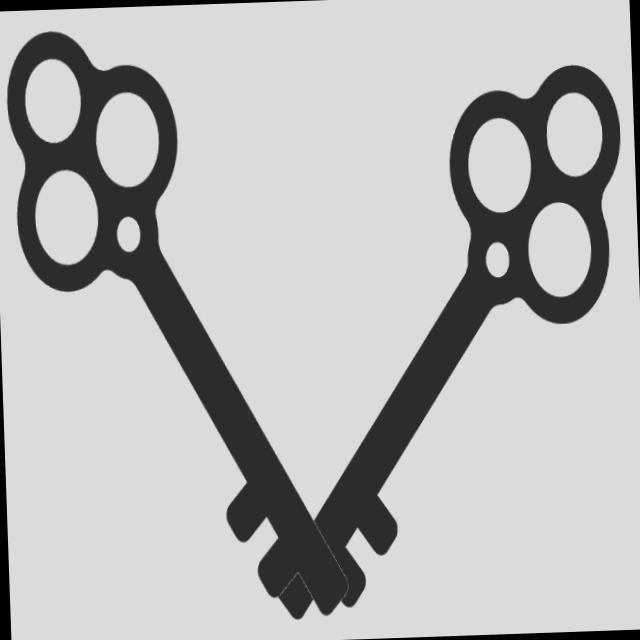key: (235, 61, 640, 636), (1, 16, 360, 640)
